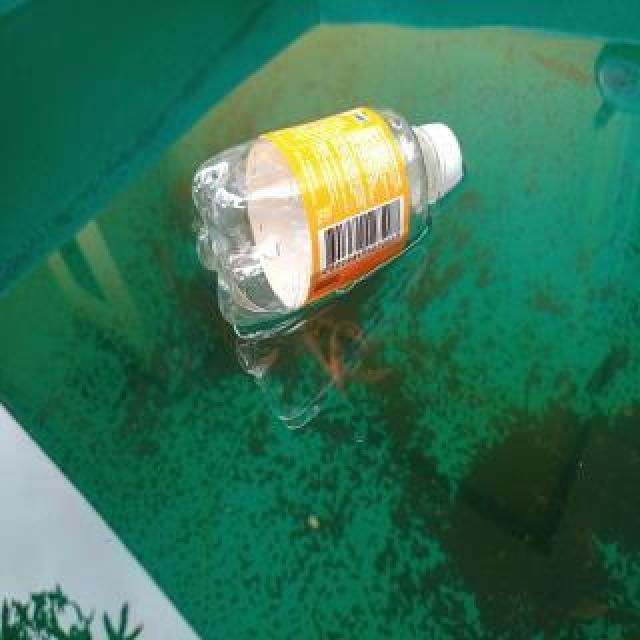bottle: (189, 105, 465, 335)
